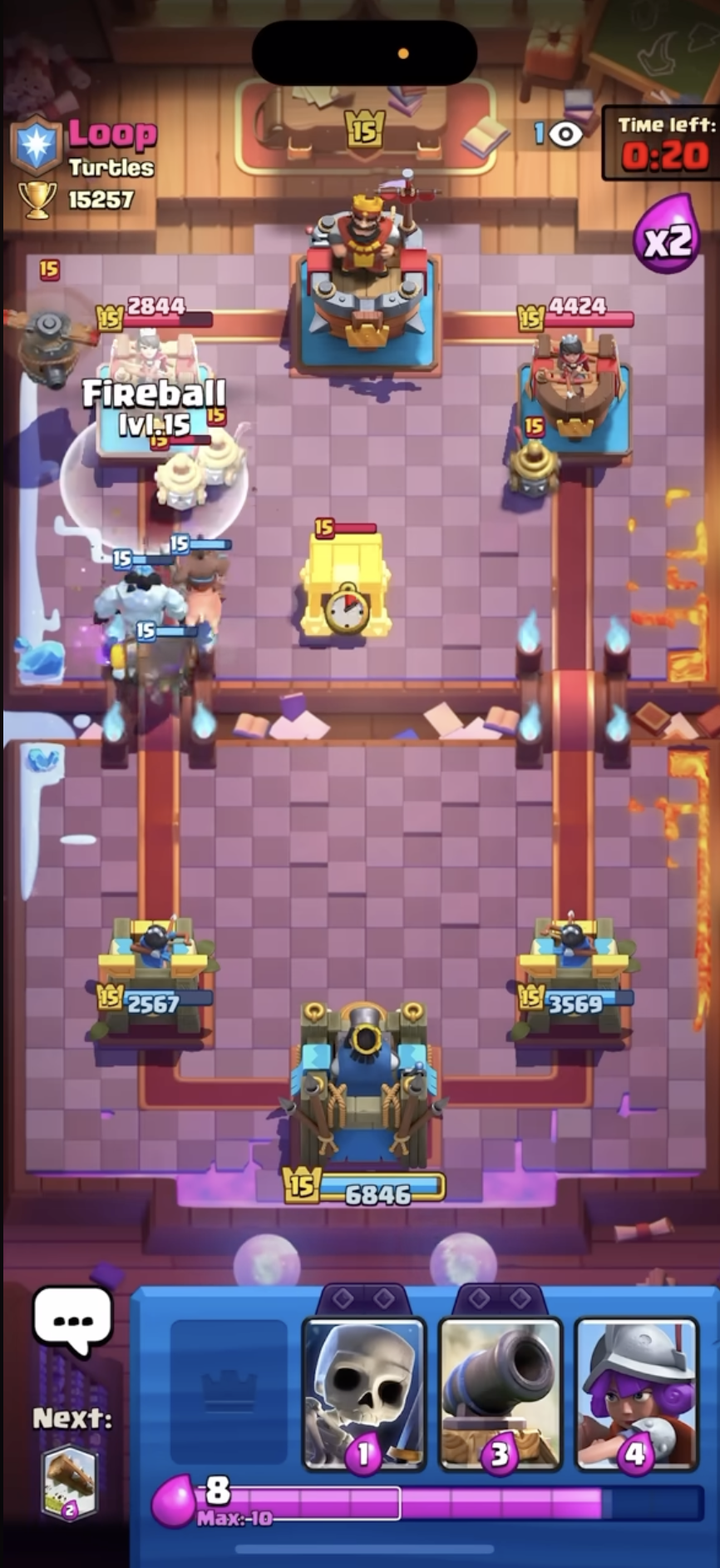flying-machine: (0, 259, 111, 405)
goblin-cage: (291, 502, 413, 652)
zappie: (499, 416, 572, 503)
